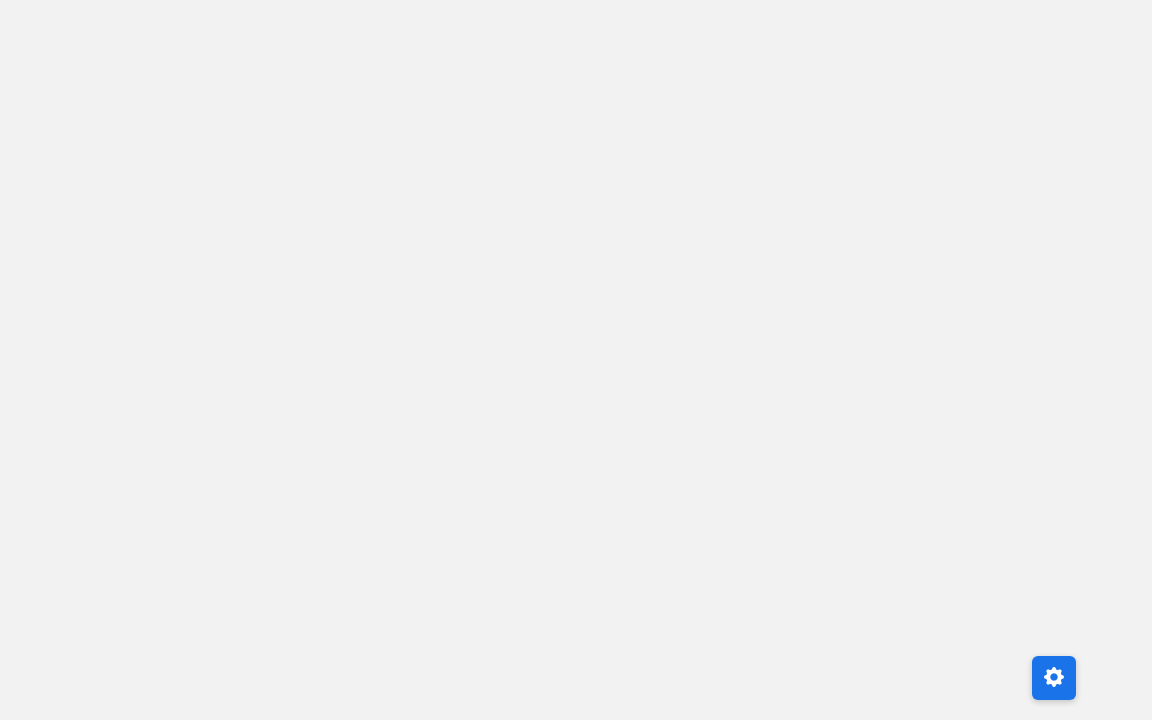
Test: Settings › reveals clock options only for clock modes
Click the button named "Settings". click: (1054, 678)
box: [1032,656,1076,700]
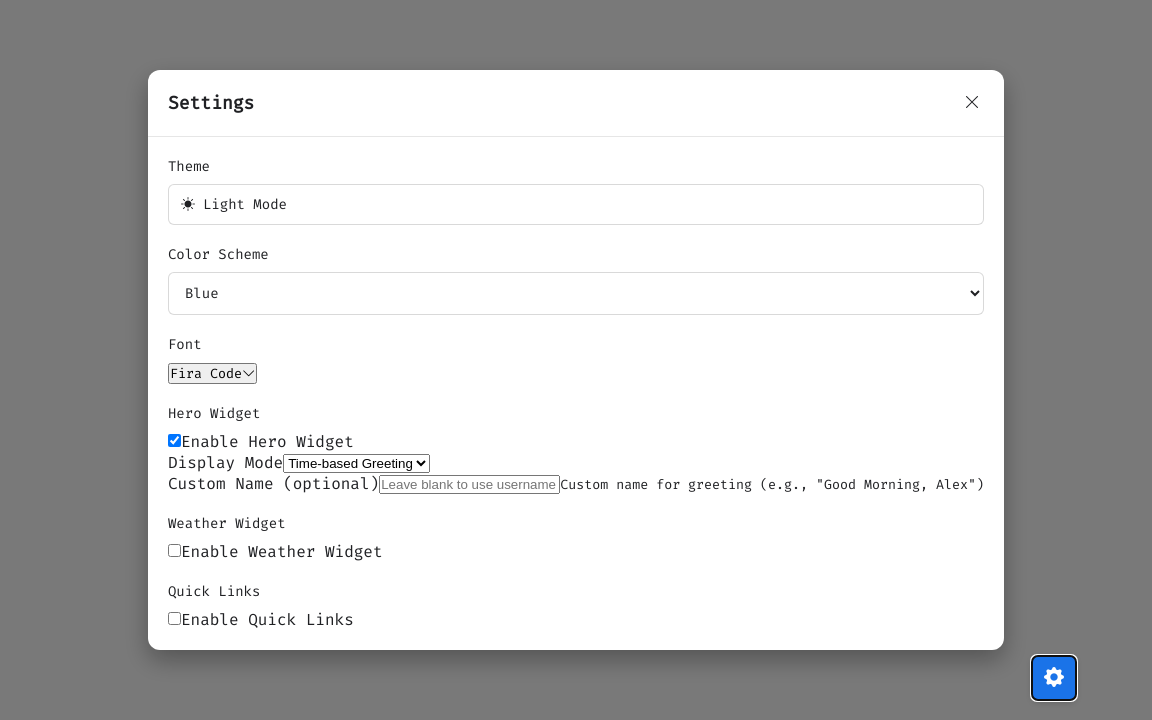
Check: the field labelled "Clock Format" is not shown
Select "Greeting + Clock" in the dropdown labelled "Display Mode". click: (357, 464)
box: [283,454,430,473]
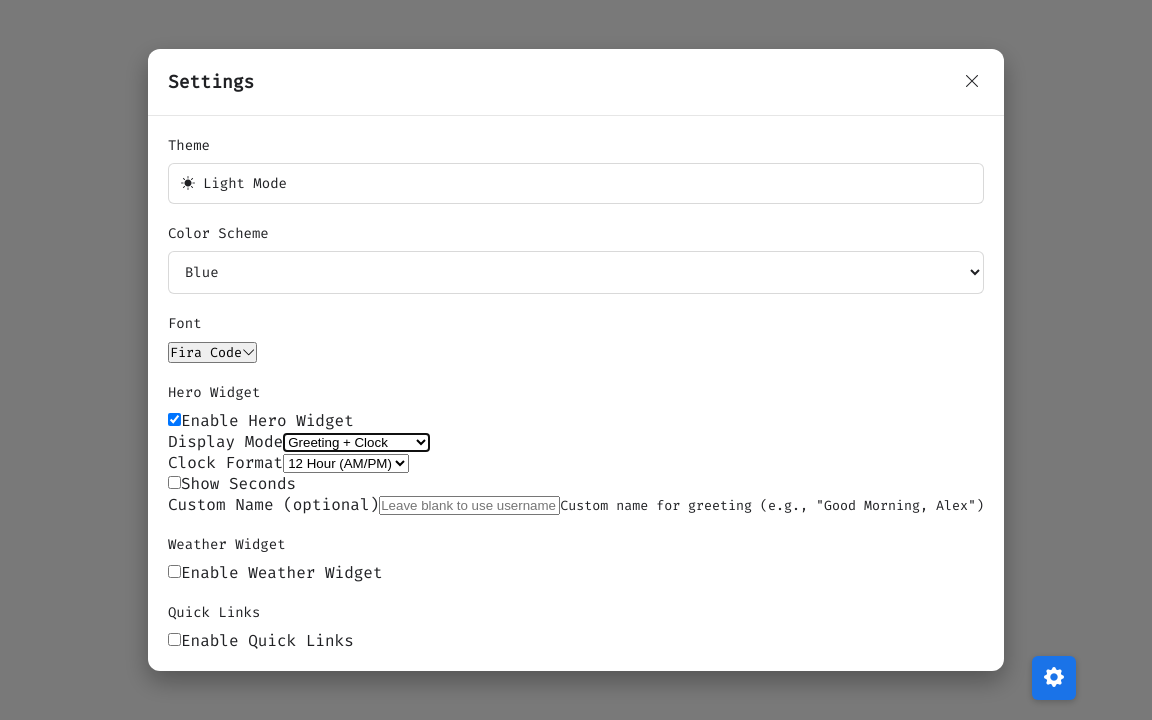
Check: the field labelled "Custom Name (optional)" is shown, box [379,496,560,515]
Check: the dropdown labelled "Clock Format" is shown, box [283,454,409,473]
Select "Digital Clock" in the dropdown labelled "Display Mode". click: (357, 442)
box: [283,433,430,452]
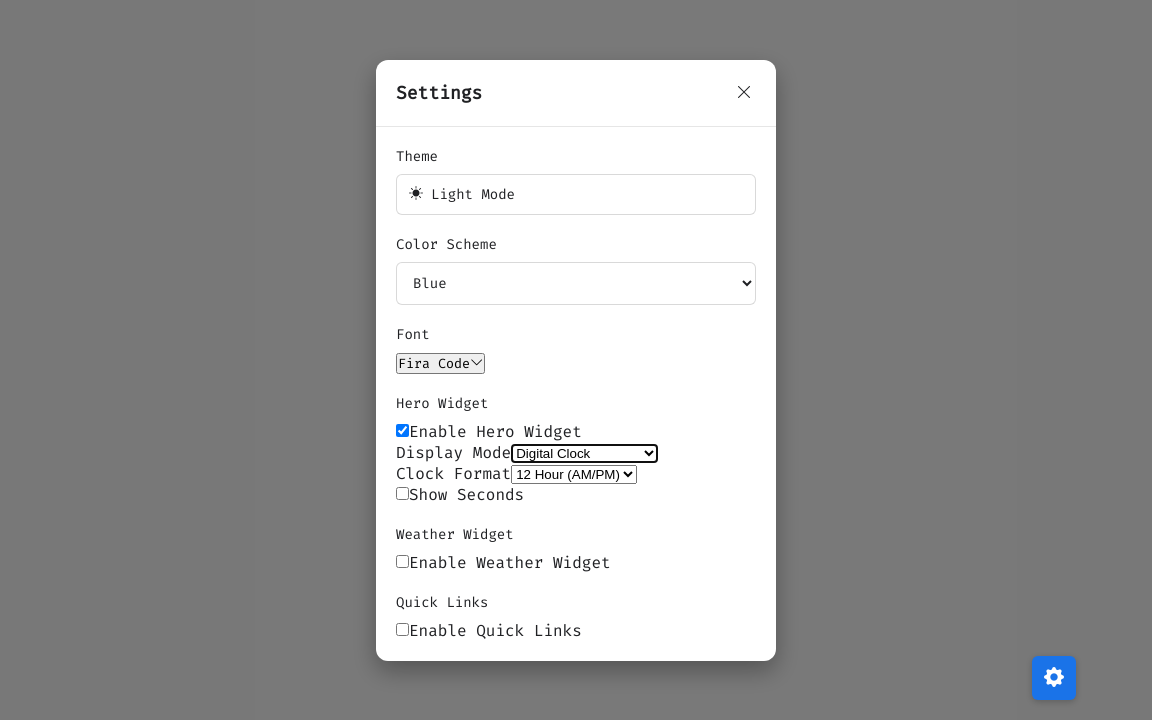
Check: the label labelled "Custom Name (optional)" is gone
